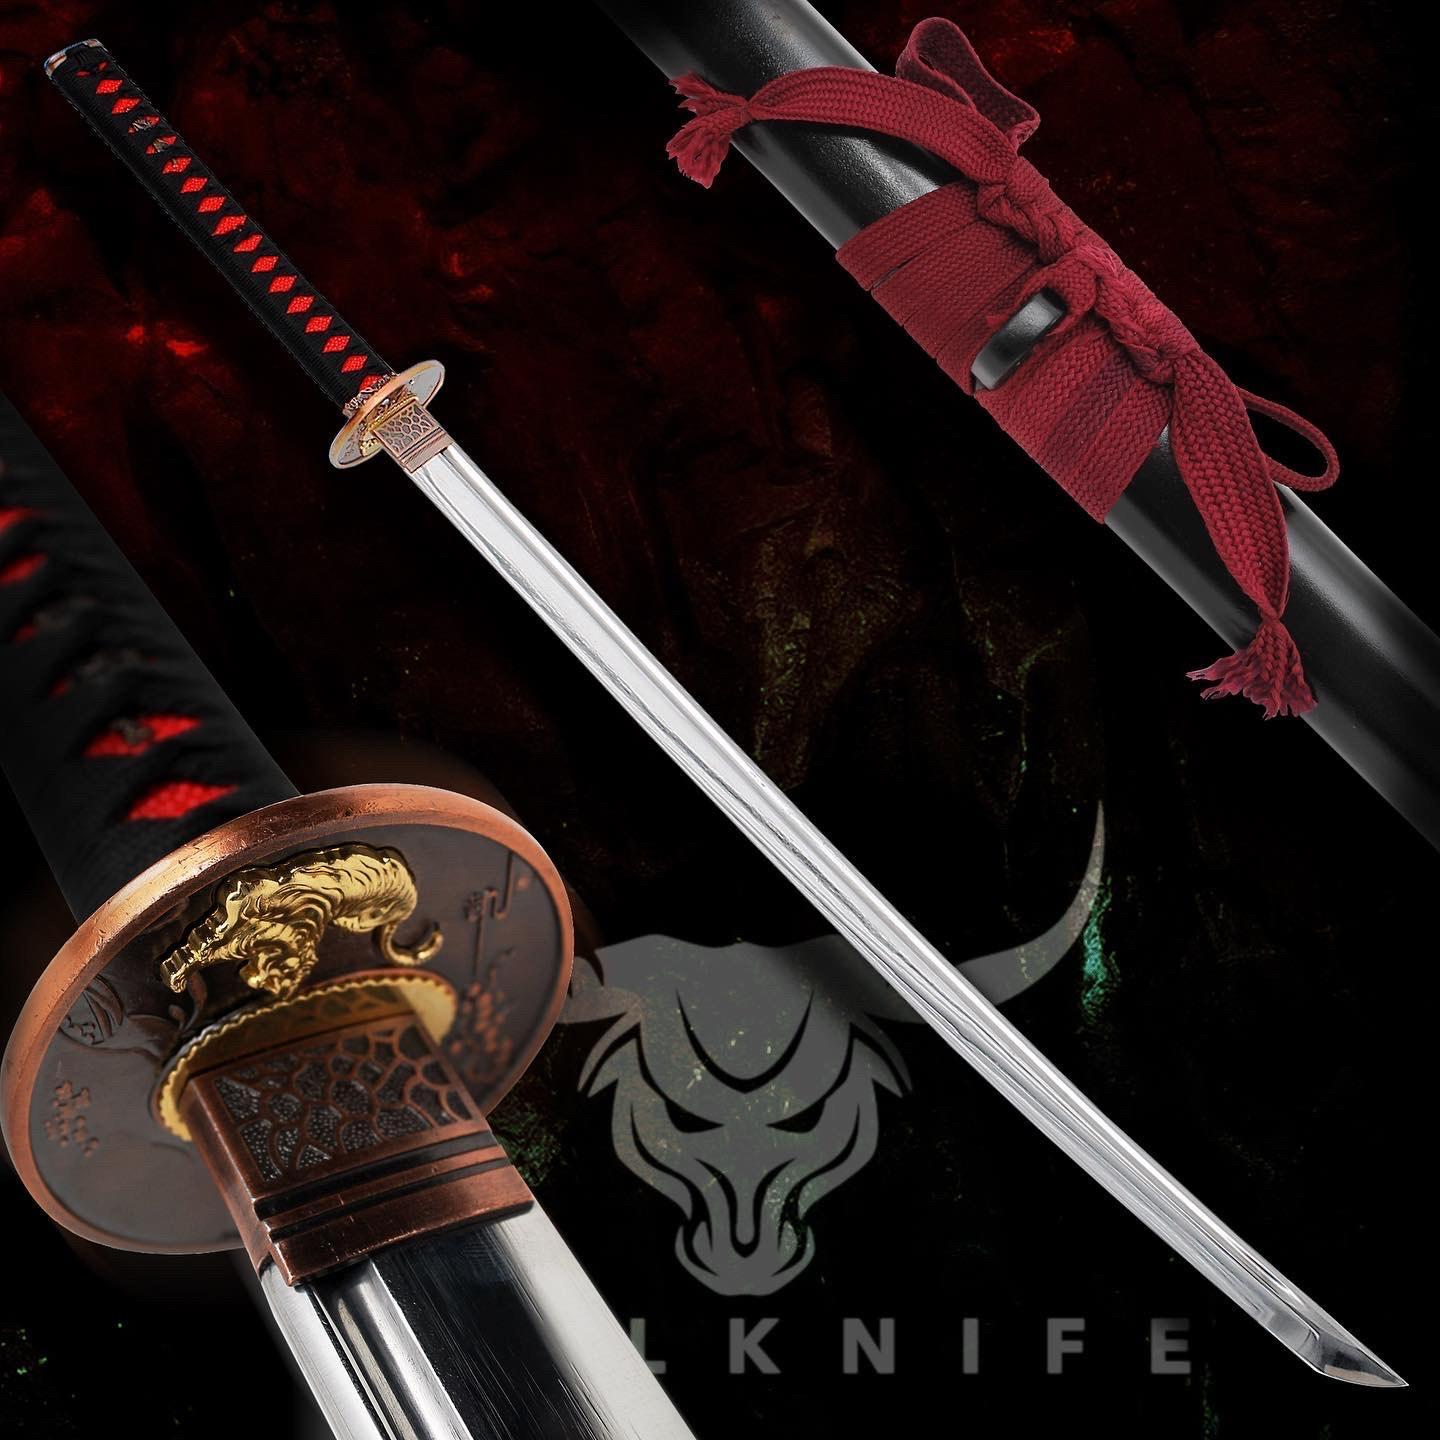espada: (45, 41, 1404, 1387)
